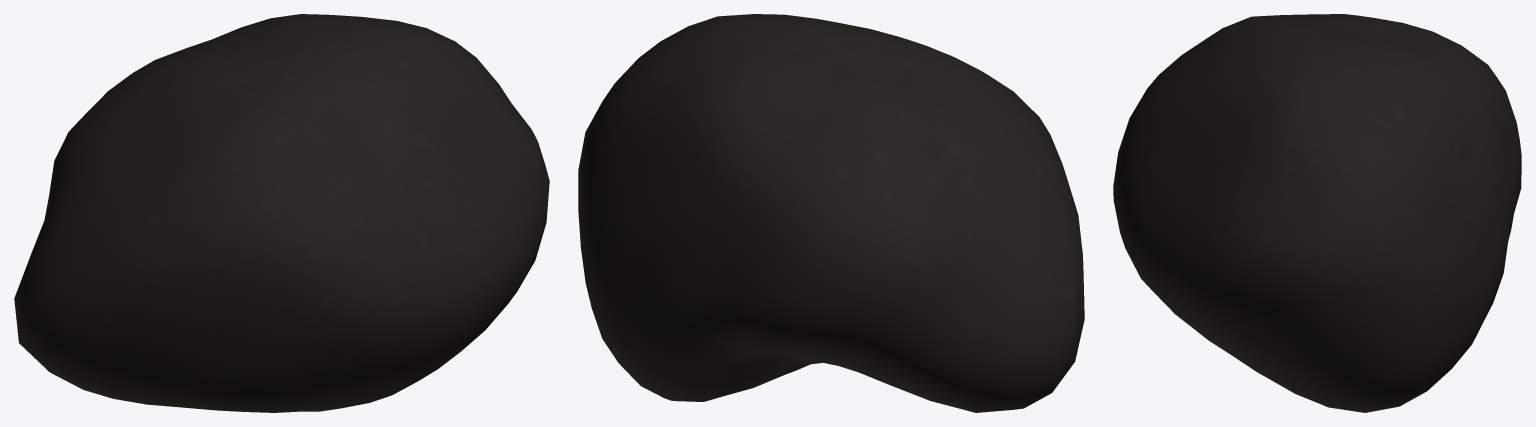
The model's file is deimos.glb.
The picture shows the model from 3 angles, left to right: view 1: azimuth 30°, elevation 25°; view 2: azimuth 150°, elevation 25°; view 3: azimuth 270°, elevation 25°; orthographic projection. The views are drawn at different scales.
Parts seen in each view (by area): view 1: Deimos; view 2: Deimos; view 3: Deimos.
Part boxes in pixels (<box>): Deimos: <box>14,14,549,412</box>; Deimos: <box>578,14,1084,412</box>; Deimos: <box>1113,14,1521,412</box>.
Size of the model in its own units: 2.57 by 1.78 by 2.03.
Materials: 1 (1 with a texture image).
